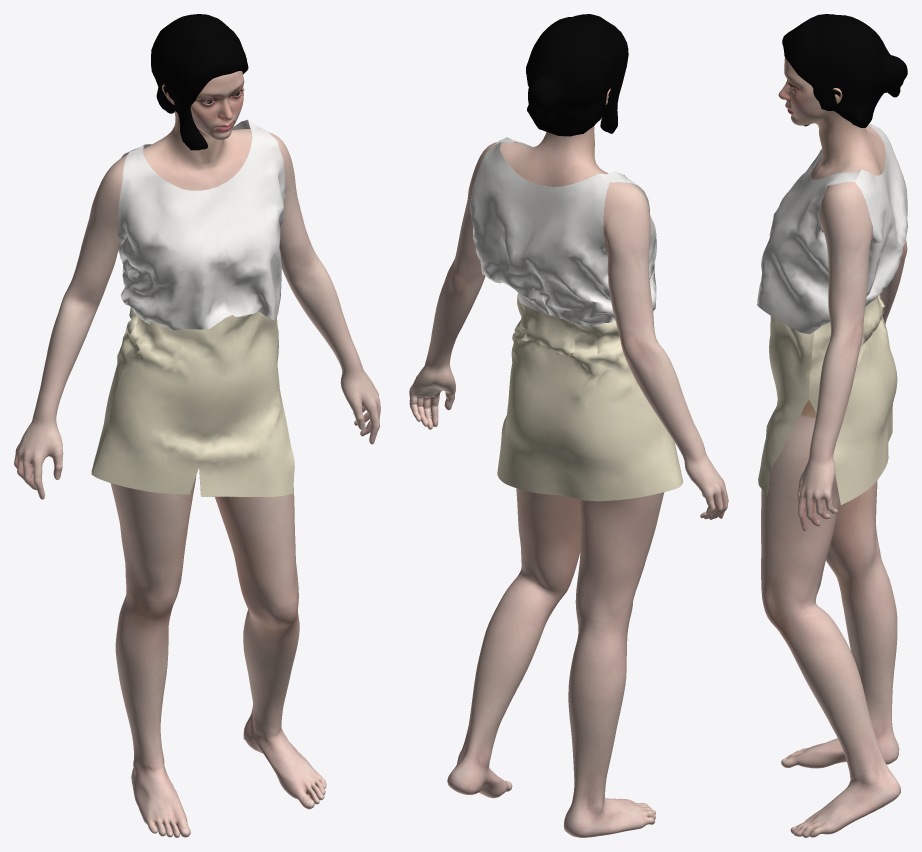
Rendered from Dynamic.obj.
3 renders of one model, left to right at view 1: azimuth 30°, elevation 25°; view 2: azimuth 150°, elevation 25°; view 3: azimuth 270°, elevation 25°, orthographic. The views are drawn at different scales.
Bounding box in the file's own units: 775 × 1773 × 314.
